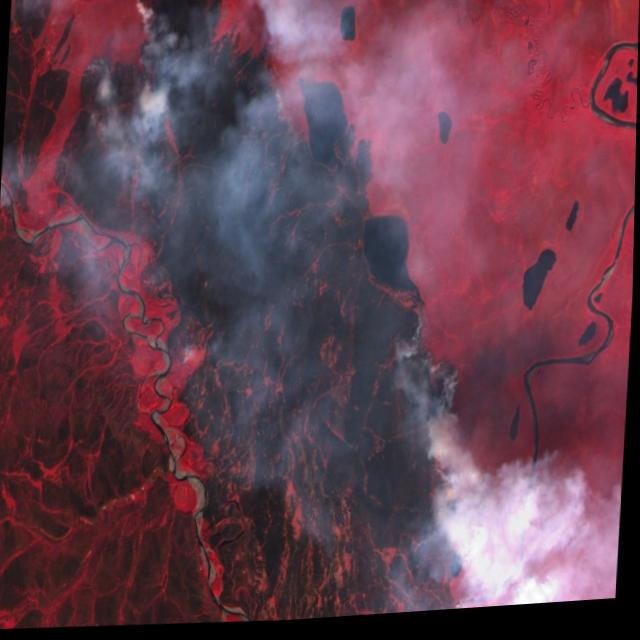fire: (390, 300, 500, 619), (66, 0, 182, 210), (258, 81, 295, 130)
